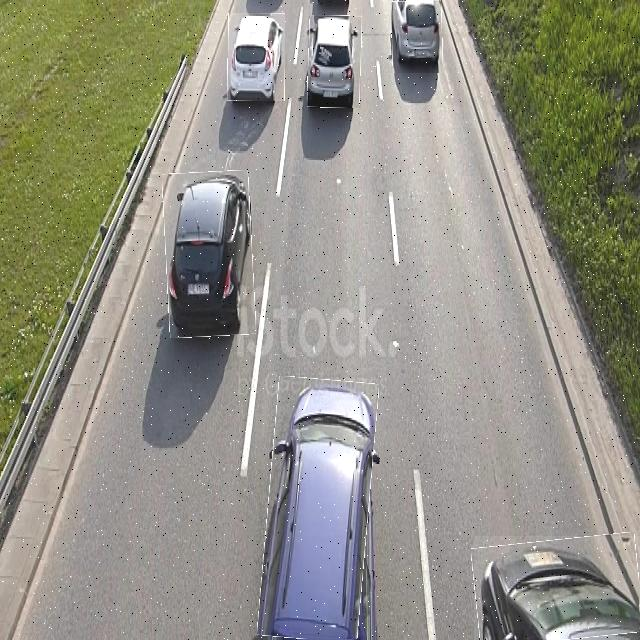Car: (262, 378, 373, 640), (474, 536, 640, 640), (164, 171, 254, 337), (228, 13, 285, 101), (308, 16, 361, 108), (391, 0, 442, 73)
